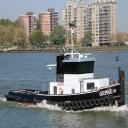tugboat: (5, 22, 127, 116)
